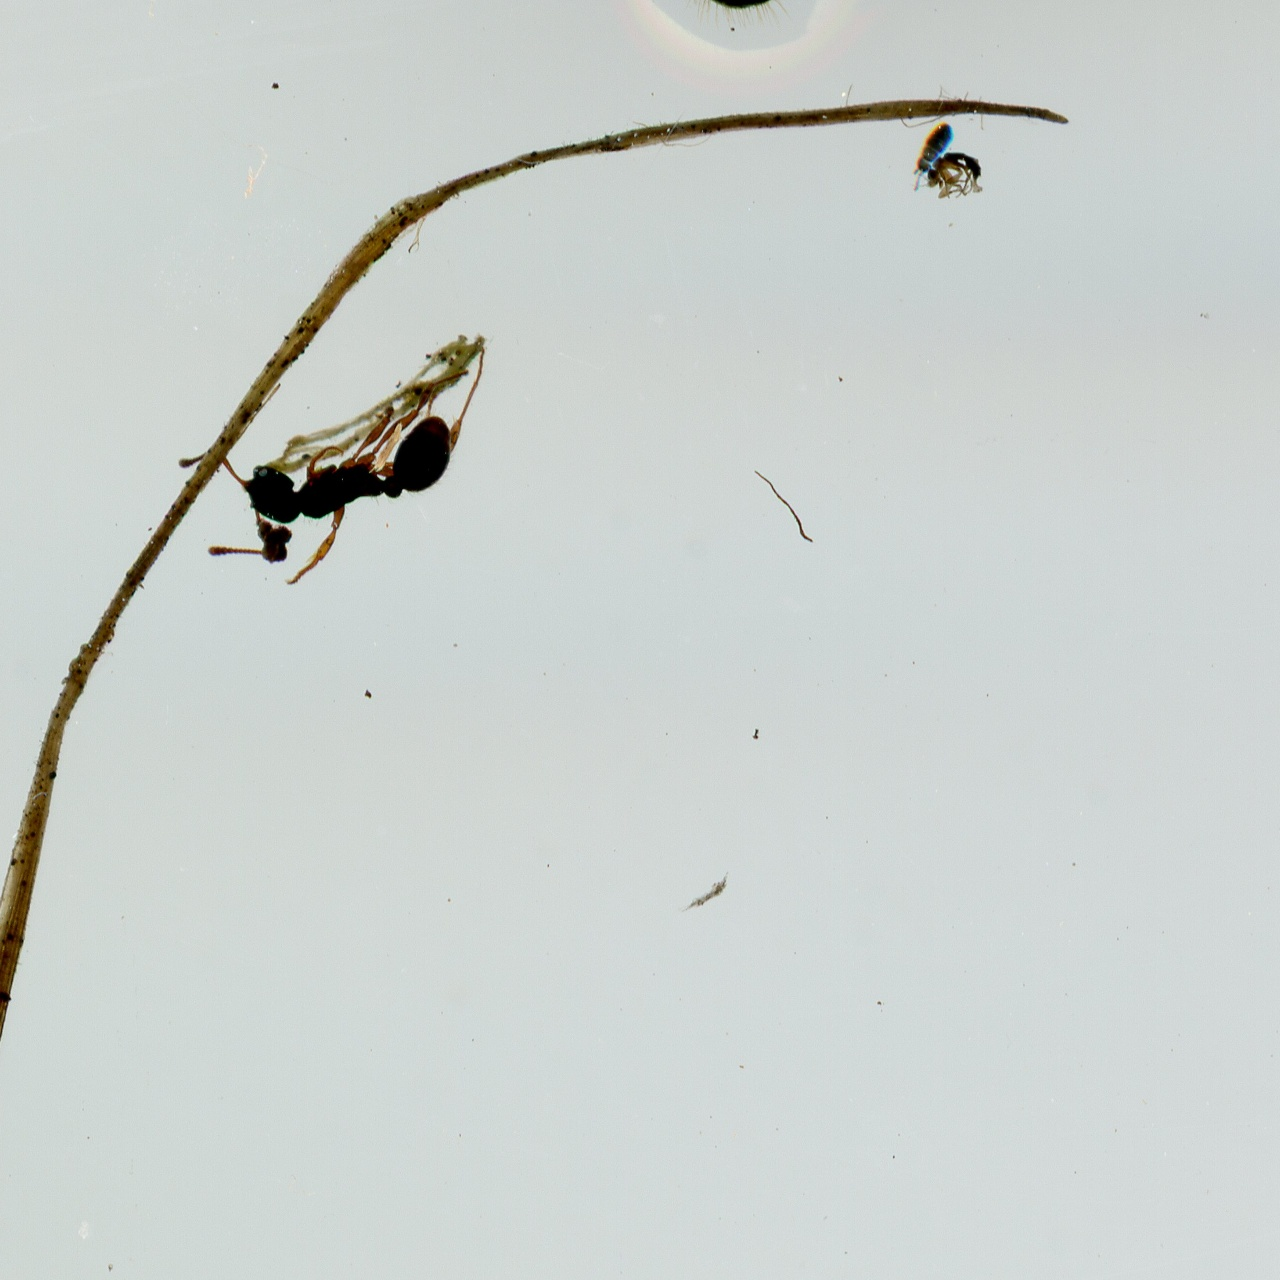arthropod: (159, 308, 547, 618), (897, 114, 962, 198), (919, 150, 985, 202)
